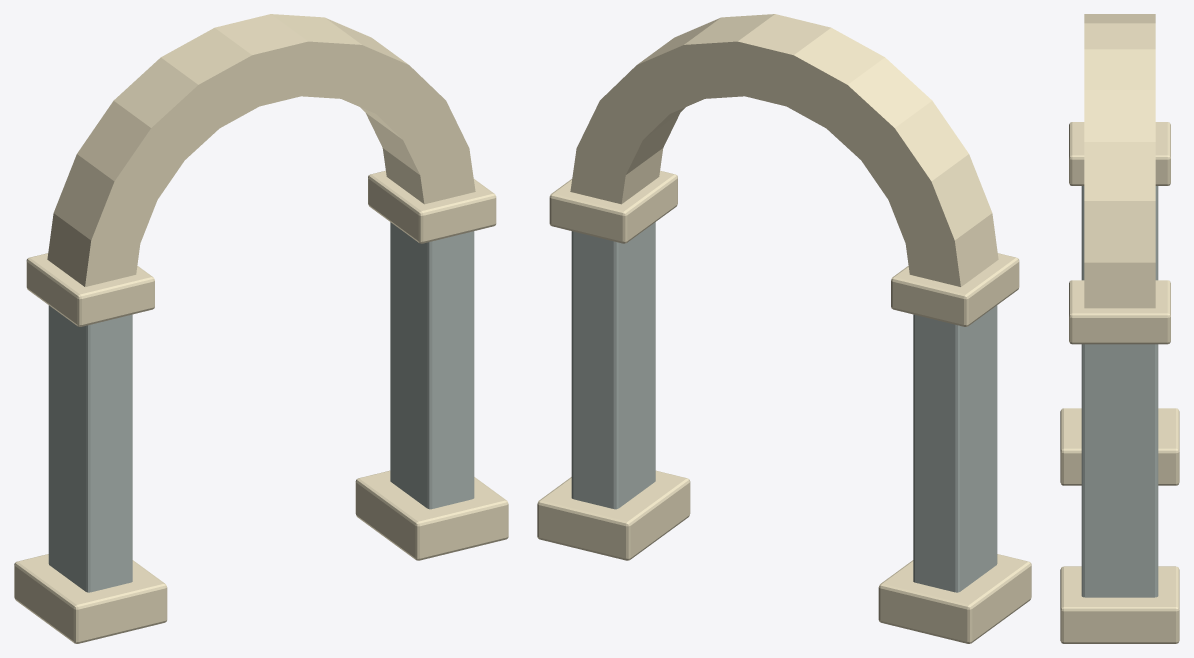
Rendered from S010_freestanding_arch.glb.
3 renders of one model, left to right at view 1: azimuth 30°, elevation 25°; view 2: azimuth 150°, elevation 25°; view 3: azimuth 270°, elevation 25°, orthographic. The views are drawn at different scales.
Visible parts, largest first — view 1: arch_pillar.001, arch_pillar, arch_base, arch_base.001, arch_voussoir_08, arch_voussoir_07, arch_voussoir_09, arch_capital, arch_capital.001, arch_voussoir_06, arch_voussoir_05, arch_voussoir_04 (+5 smaller); view 2: arch_pillar.001, arch_pillar, arch_base, arch_base.001, arch_voussoir_08, arch_voussoir_07, arch_voussoir_09, arch_capital, arch_capital.001, arch_voussoir_06, arch_voussoir_05, arch_voussoir_04 (+5 smaller); view 3: arch_pillar.001, arch_base.001, arch_capital.001, arch_voussoir_01, arch_voussoir_02, arch_voussoir_03, arch_base, arch_voussoir_00, arch_voussoir_04, arch_capital, arch_voussoir_05, arch_pillar (+1 smaller).
Part boxes in pixels (<box>): arch_pillar.001: <box>390,222,474,509</box>; arch_pillar: <box>48,305,132,592</box>; arch_base: <box>14,554,167,643</box>; arch_base.001: <box>355,470,508,560</box>; arch_voussoir_08: <box>77,100,184,199</box>; arch_voussoir_07: <box>114,57,219,160</box>; arch_voussoir_09: <box>53,154,157,243</box>; arch_capital: <box>26,253,154,326</box>; arch_capital.001: <box>368,170,496,243</box>; arch_voussoir_06: <box>161,28,259,127</box>; arch_voussoir_05: <box>215,14,308,106</box>; arch_voussoir_04: <box>271,14,361,98</box>; arch_pillar.001: <box>571,222,655,509</box>; arch_pillar: <box>913,305,997,592</box>; arch_base: <box>878,554,1031,643</box>; arch_base.001: <box>537,470,690,560</box>; arch_voussoir_08: <box>861,100,968,199</box>; arch_voussoir_07: <box>826,57,931,160</box>; arch_voussoir_09: <box>888,154,992,243</box>; arch_capital: <box>891,253,1019,326</box>; arch_capital.001: <box>549,170,677,243</box>; arch_voussoir_06: <box>786,28,884,127</box>; arch_voussoir_05: <box>737,14,830,106</box>; arch_voussoir_04: <box>684,14,774,98</box>; arch_pillar.001: <box>1081,344,1158,597</box>; arch_base.001: <box>1060,566,1179,643</box>; arch_capital.001: <box>1069,280,1170,344</box>; arch_voussoir_01: <box>1084,201,1155,262</box>; arch_voussoir_02: <box>1084,142,1155,200</box>; arch_voussoir_03: <box>1084,90,1155,141</box>; arch_base: <box>1060,408,1179,485</box>; arch_voussoir_00: <box>1084,262,1155,308</box>; arch_voussoir_04: <box>1084,49,1155,89</box>; arch_capital: <box>1069,122,1170,185</box>; arch_voussoir_05: <box>1084,23,1155,49</box>; arch_pillar: <box>1081,186,1158,280</box>.
Bounding box in the file's own units: 2.8 × 3.3 × 0.7.
